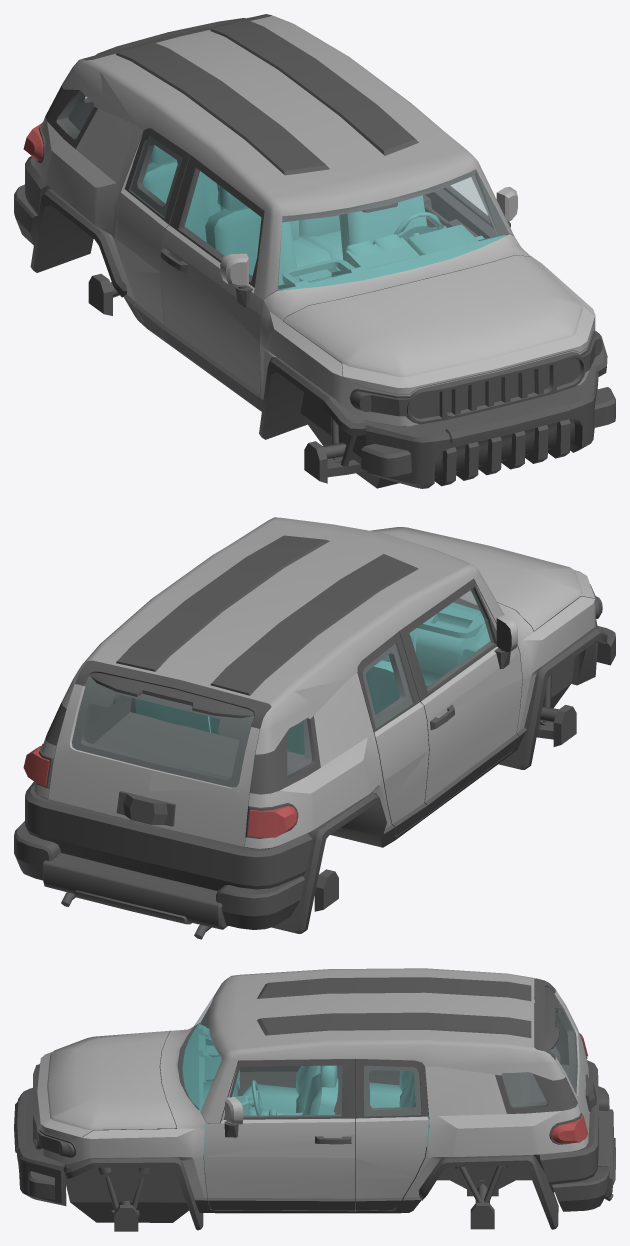
The model's file is Offroad_Car_01.fbx.
The picture shows the model from 3 angles, top to bottom: view 1: azimuth 30°, elevation 25°; view 2: azimuth 150°, elevation 25°; view 3: azimuth 270°, elevation 25°; orthographic projection. The views are drawn at different scales.
Visible parts, largest first — view 1: OffOffroad_Base, Offroad_Hood, Offroad_Door_02, Offroad_Door_03, Offroad_Door_01, Offroad_Trunk; view 2: OffOffroad_Base, Offroad_Trunk, Offroad_Door_02, Offroad_Door_03, Offroad_Hood; view 3: OffOffroad_Base, Offroad_Door_01, Offroad_Hood, Offroad_Door_04, Offroad_Trunk, Offroad_Door_02, Offroad_Door_03.
Boxes of the visible parts, left/top/right/bottom form: OffOffroad_Base: left=14, top=15, right=615, bottom=488; Offroad_Hood: left=283, top=255, right=595, bottom=393; Offroad_Door_02: left=160, top=154, right=264, bottom=407; Offroad_Door_03: left=117, top=128, right=190, bottom=340; Offroad_Door_01: left=423, top=177, right=517, bottom=238; Offroad_Trunk: left=68, top=14, right=271, bottom=131; OffOffroad_Base: left=14, top=517, right=615, bottom=939; Offroad_Trunk: left=48, top=661, right=271, bottom=846; Offroad_Door_02: left=398, top=579, right=522, bottom=818; Offroad_Door_03: left=357, top=632, right=428, bottom=835; Offroad_Hood: left=370, top=527, right=594, bottom=630; OffOffroad_Base: left=14, top=968, right=615, bottom=1231; Offroad_Door_01: left=204, top=1058, right=355, bottom=1210; Offroad_Hood: left=37, top=1030, right=176, bottom=1138; Offroad_Door_04: left=355, top=1059, right=428, bottom=1210; Offroad_Trunk: left=534, top=978, right=596, bottom=1140; Offroad_Door_02: left=237, top=1061, right=342, bottom=1114; Offroad_Door_03: left=369, top=1070, right=399, bottom=1085.
Size of the model in its own units: 211 by 167 by 479.
